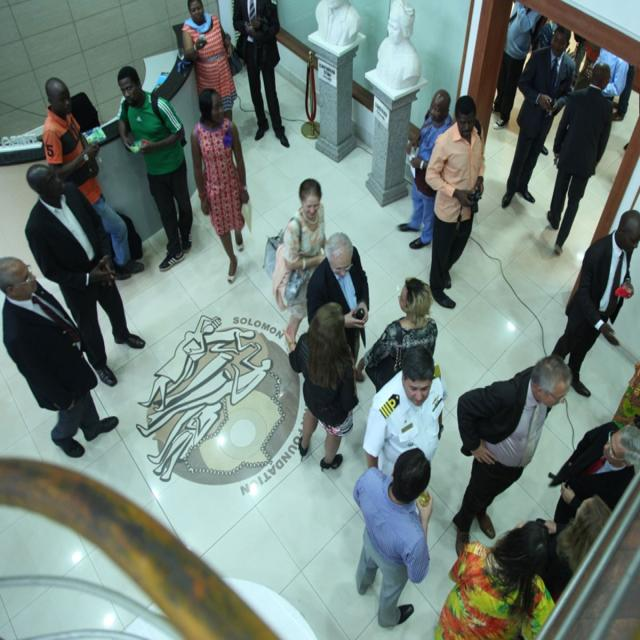body: (22, 159, 147, 389), (0, 251, 121, 461), (452, 353, 574, 560), (42, 76, 146, 281), (549, 208, 640, 400), (115, 65, 194, 273), (350, 442, 435, 632), (430, 516, 560, 639), (500, 23, 578, 210), (281, 298, 361, 474), (544, 58, 615, 256), (424, 92, 486, 310), (189, 85, 251, 288), (362, 342, 445, 477), (303, 229, 372, 389), (514, 491, 612, 598), (548, 420, 640, 527), (356, 277, 438, 396), (396, 87, 455, 251), (232, 0, 291, 149), (283, 178, 328, 342), (180, 0, 238, 122), (490, 0, 544, 131), (567, 33, 639, 122), (374, 0, 423, 89), (312, 0, 366, 51), (610, 356, 640, 430), (532, 13, 558, 47), (623, 138, 631, 153)
